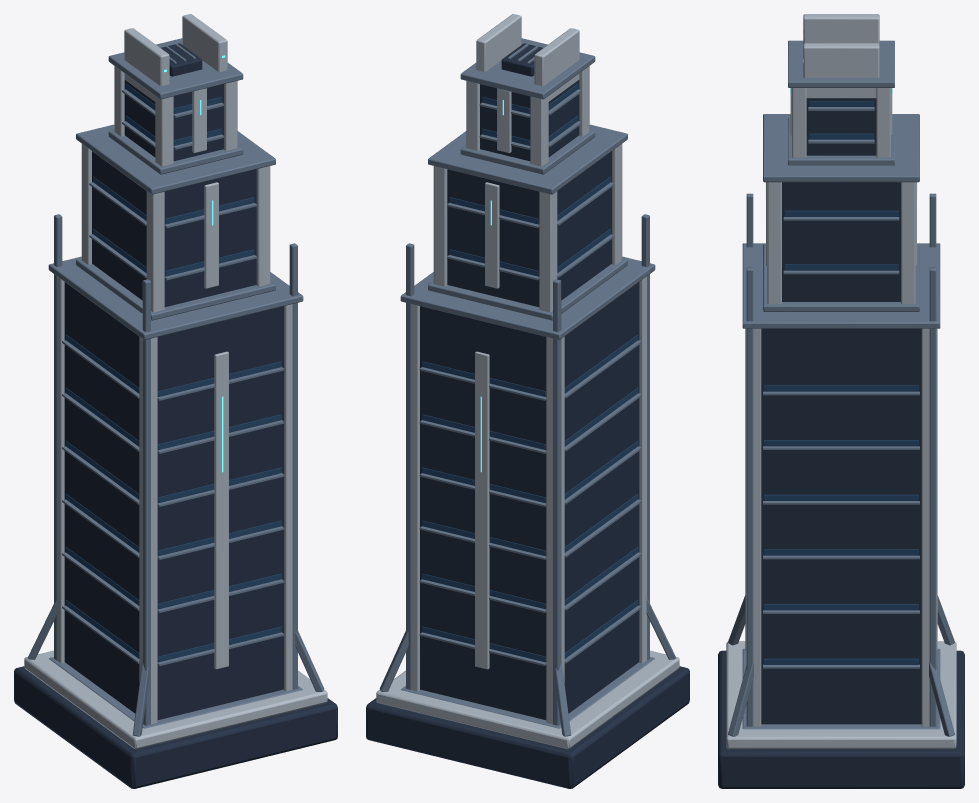
The model's file is kit-v1.glb.
3 views of the same model, side by side, from view 1: azimuth 30°, elevation 25°; view 2: azimuth 150°, elevation 25°; view 3: azimuth 270°, elevation 25° (orthographic). The views are drawn at different scales.
Parts seen in each view (by area): view 1: city-tower_graphite, city-tower_ceramic, city-tower_alloy, city-tower_window; view 2: city-tower_graphite, city-tower_ceramic, city-tower_alloy, city-tower_window; view 3: city-tower_graphite, city-tower_alloy, city-tower_ceramic, city-tower_window.
Part boxes in pixels (box(x1,y1,x2,y2)): city-tower_graphite: box(14, 43, 337, 788); city-tower_ceramic: box(24, 14, 327, 749); city-tower_alloy: box(27, 38, 324, 736); city-tower_window: box(65, 83, 281, 662); city-tower_graphite: box(366, 43, 689, 788); city-tower_ceramic: box(376, 14, 679, 749); city-tower_alloy: box(379, 38, 676, 736); city-tower_window: box(422, 83, 638, 662); city-tower_graphite: box(718, 98, 964, 788); city-tower_alloy: box(728, 40, 954, 736); city-tower_ceramic: box(726, 14, 956, 748); city-tower_window: box(764, 101, 918, 664).
Bounding box in the file's own units: 12 × 38 × 12.
